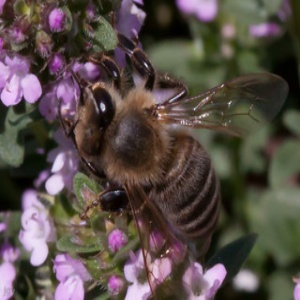bee: (69, 72, 292, 300)
